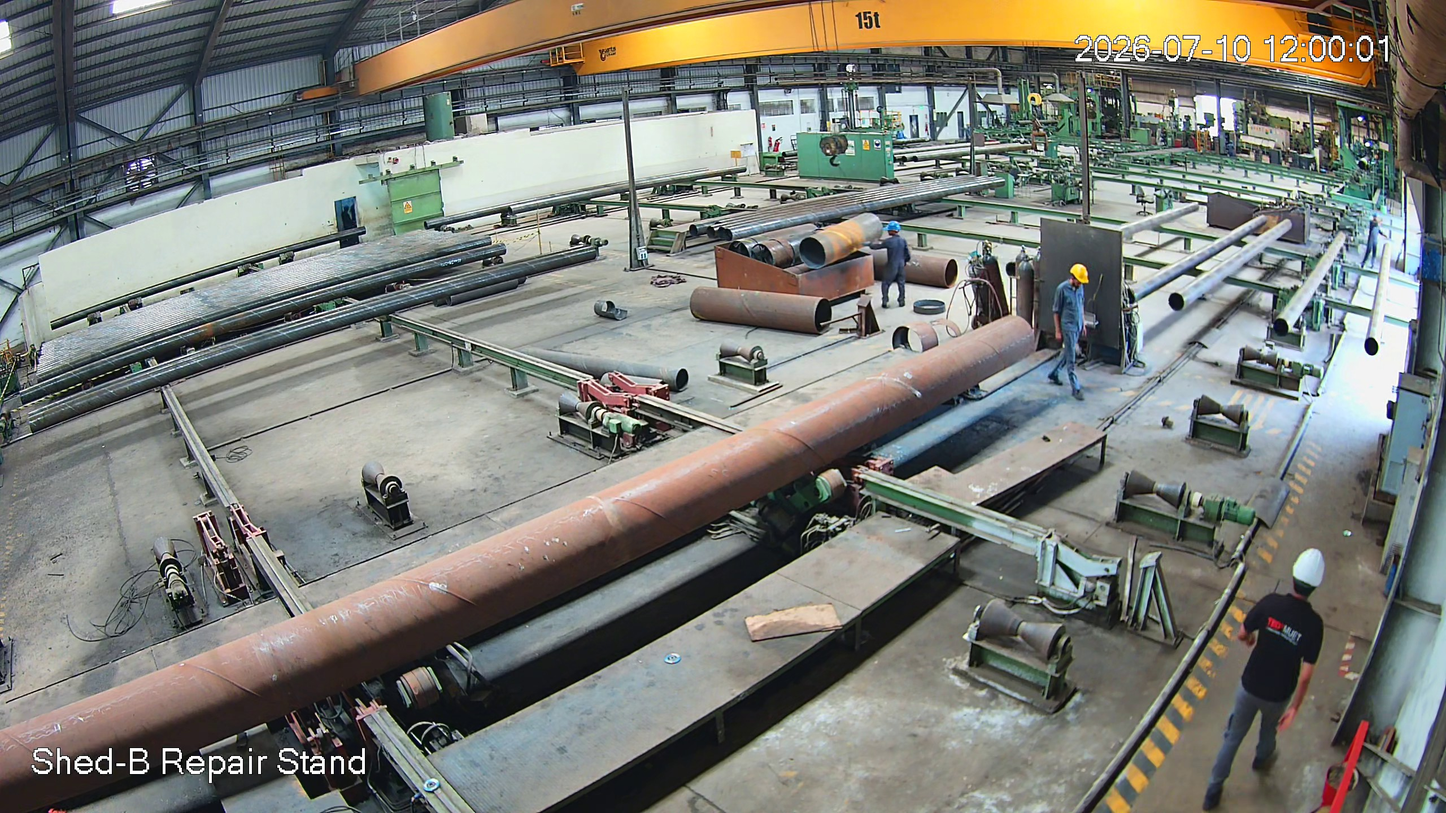Helmet: (1281, 541, 1343, 644), (1067, 257, 1091, 296), (883, 216, 903, 246)
Person: (1183, 547, 1353, 813), (1048, 259, 1091, 404), (878, 218, 907, 314)
